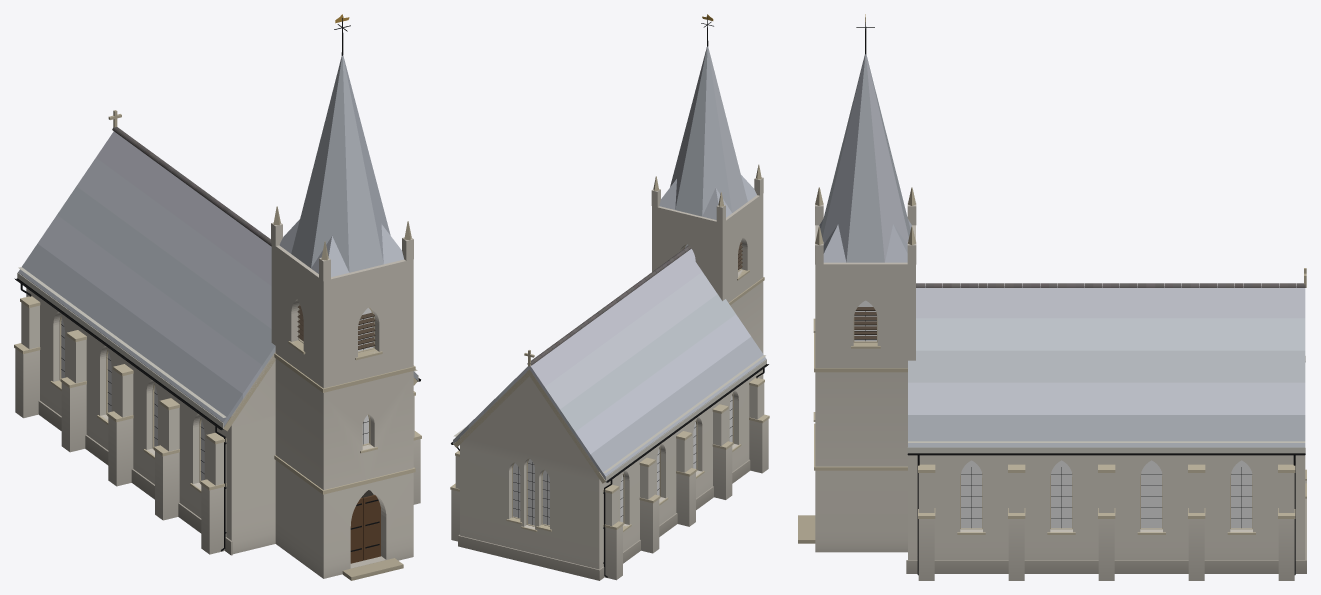
The model's file is town_church_a.glb.
3 views of the same model, side by side, from view 1: azimuth 30°, elevation 25°; view 2: azimuth 150°, elevation 25°; view 3: azimuth 270°, elevation 25° (orthographic). The views are drawn at different scales.
Visible parts, largest first — view 1: body; view 2: body; view 3: body.
Boxes of the visible parts, left/top/right/bottom form: body: left=14, top=14, right=421, bottom=580; body: left=450, top=14, right=769, bottom=580; body: left=798, top=14, right=1306, bottom=580.
Size of what is drawn, in the model's own units: 8.96 by 21.55 by 19.21.
